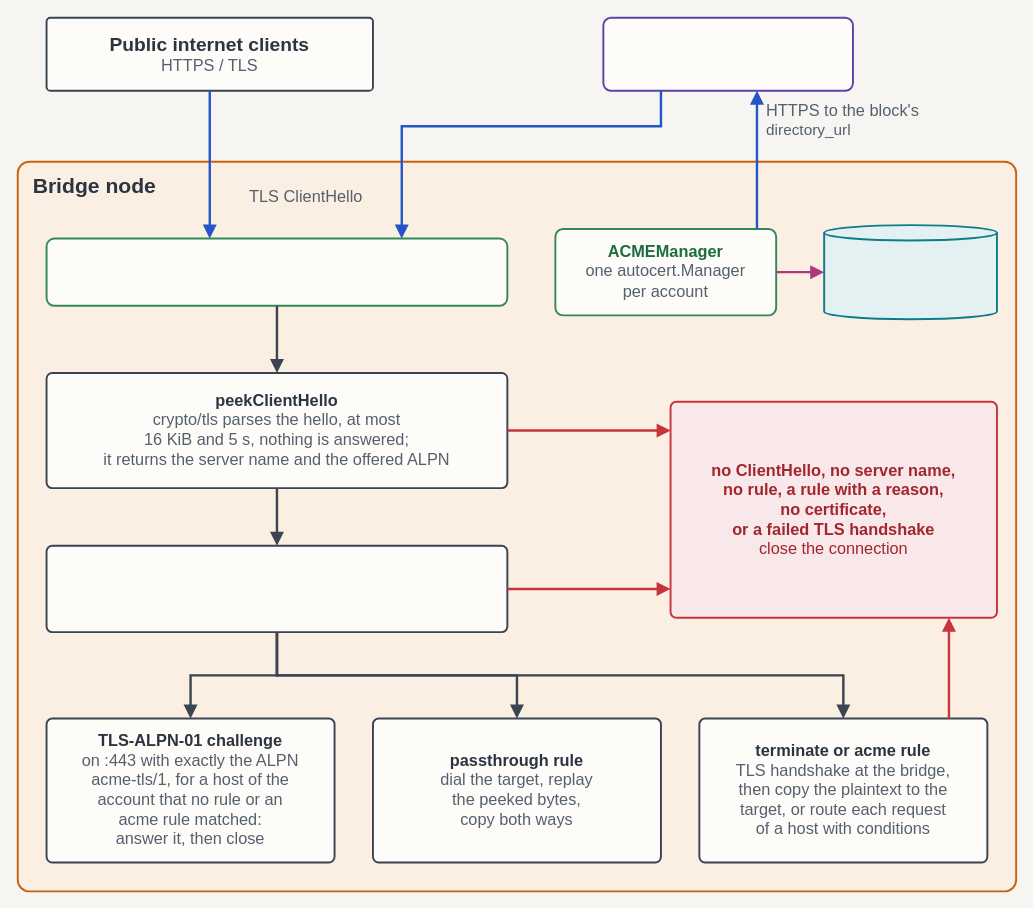
Some shapes in this 1033 by 908 pixel diagram are drawn without their labels. Here are the shapes that lost their labels. From the top down, the centre of each, then its label:
At (x=727, y=53): "ACME CA TLS-ALPN-01".
At (x=276, y=271): "IngressManager one listener per SNI port (:443)".
At (x=910, y=272): "DirCache <data_dir>/acme".
At (x=276, y=588): "ingressTable.match(server name) exact host first, then a wildcard of one label".
